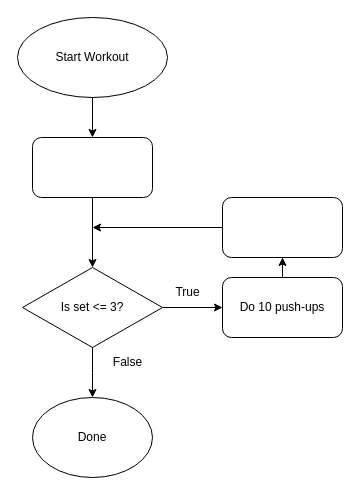
Some shapes in this 360 by 495 pixel diagram are drawn without their labels. The centre of each missing label's shape, as x and y in pixels:
Increment set by 1: [282,227]
Initialize set = 1: [92,167]
